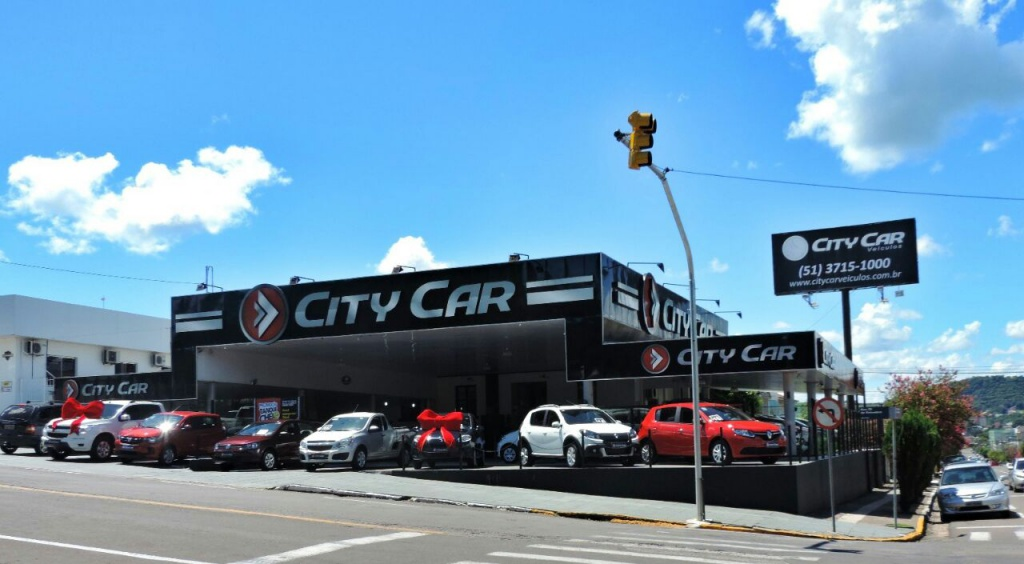Carro: (635, 401, 791, 471), (40, 393, 180, 470), (512, 396, 646, 470), (115, 405, 229, 474), (301, 407, 407, 477), (212, 410, 311, 478), (1, 393, 81, 464), (934, 459, 1017, 521)
